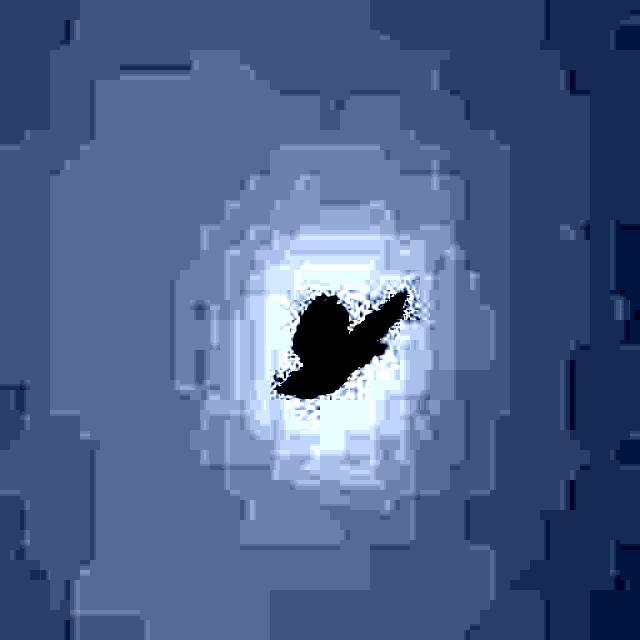airplane: (279, 292, 405, 399)
